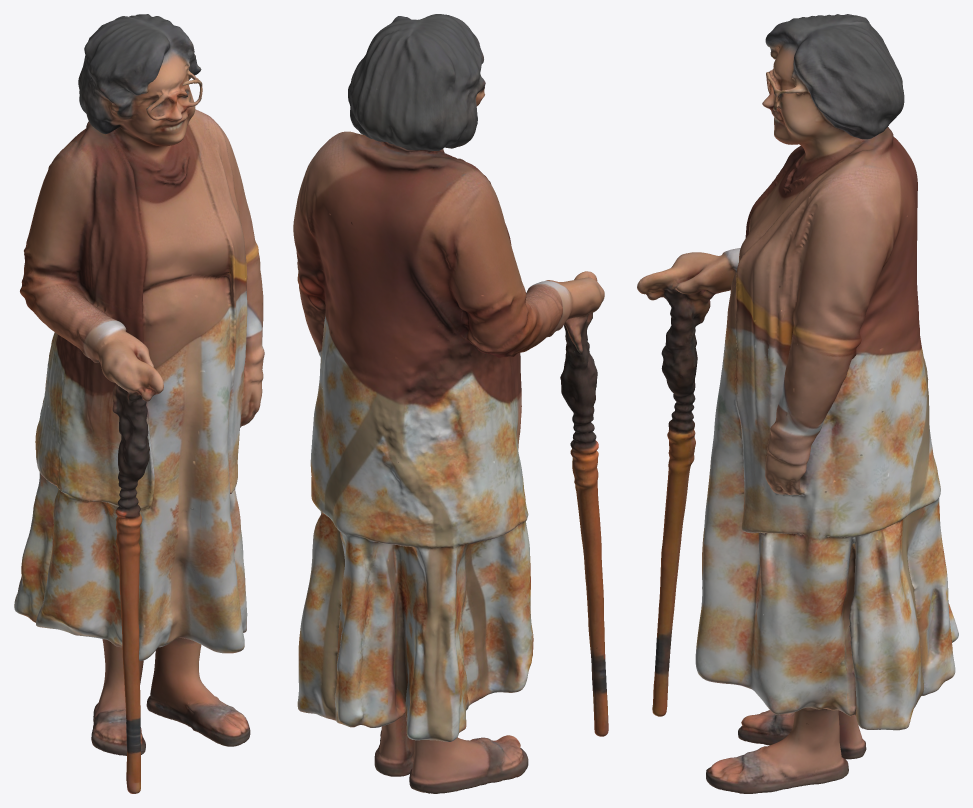
The model's file is oldlady.fbx.
3 views of the same model, side by side, from view 1: azimuth 30°, elevation 25°; view 2: azimuth 150°, elevation 25°; view 3: azimuth 270°, elevation 25° (orthographic). The views are drawn at different scales.
Parts seen in each view (by area): view 1: obj1; view 2: obj1; view 3: obj1.
Boxes of the visible parts, box(x1,y1,x2,y2) form: obj1: box(14, 14, 264, 793); obj1: box(293, 14, 608, 793); obj1: box(637, 14, 958, 793).
Size of the model in its own units: 66.74 by 200 by 78.89.
1 material, 1 textured.
